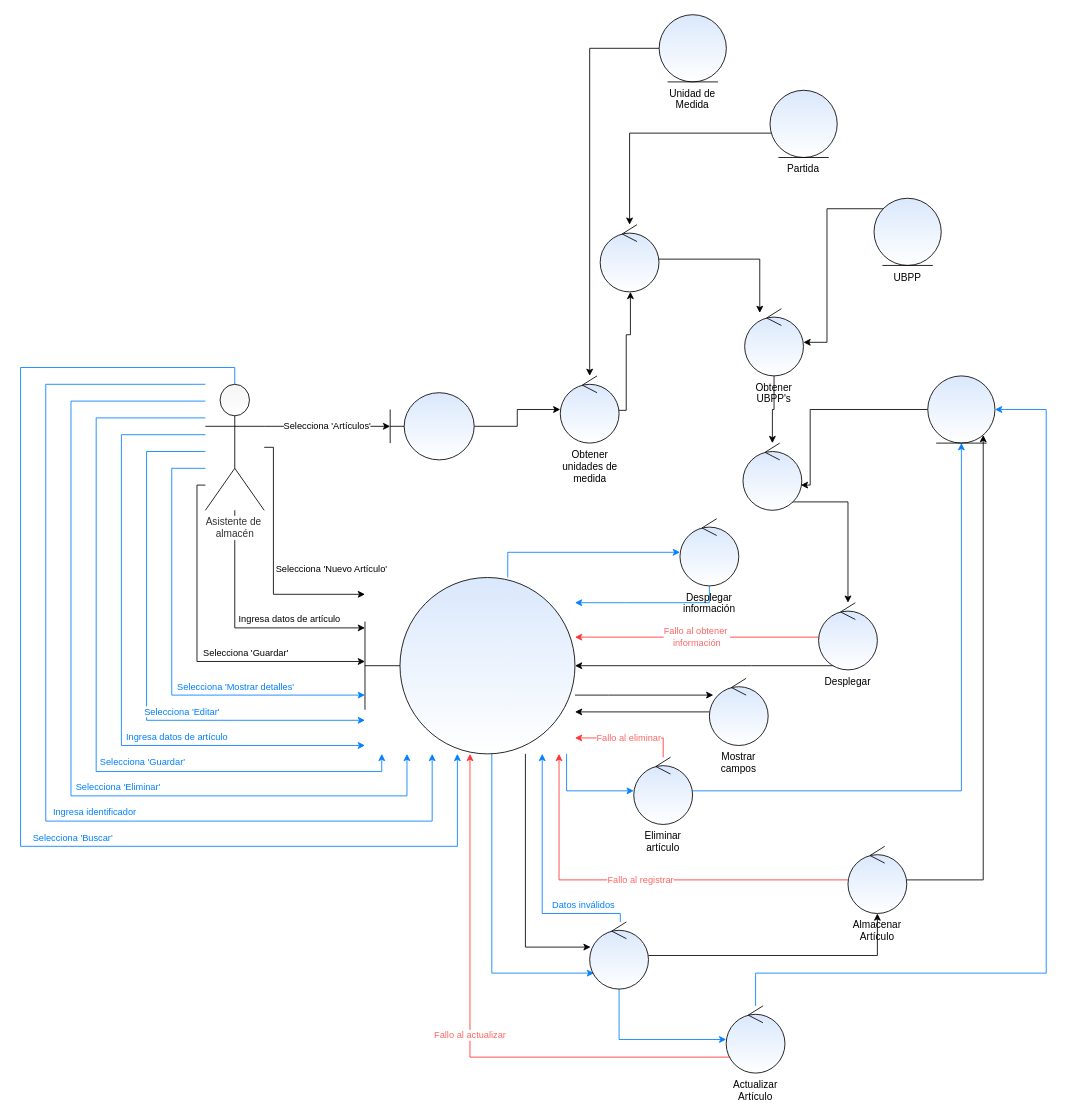
The diagram is 1068 pixels wide and 1118 high, and some of its shapes have lost their labels. Here are the shapes that lost their labels. From the top down, the box of each, then its label:
(599, 224, 659, 292): Obtener partidas
(389, 392, 474, 460): Menú principal
(927, 375, 995, 443): Artículo
(742, 442, 802, 510): Obtener artículos
(364, 577, 575, 754): Catálogo de Artículos
(589, 921, 648, 989): Validar Datos
